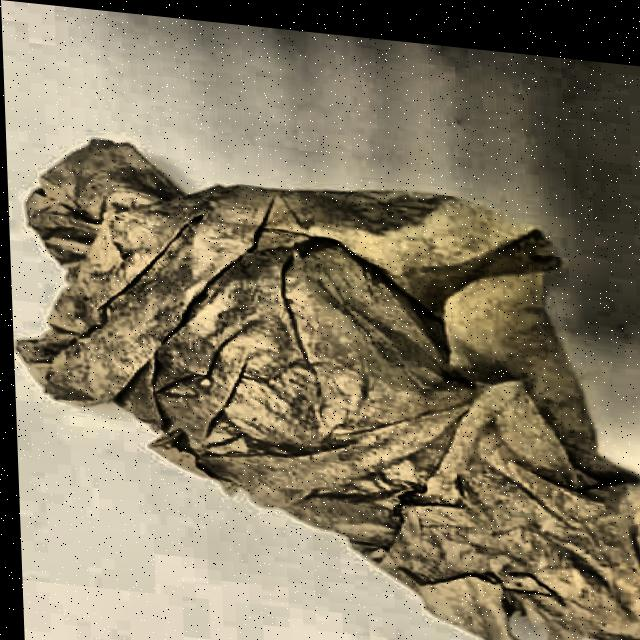paper: (4, 116, 640, 640)
